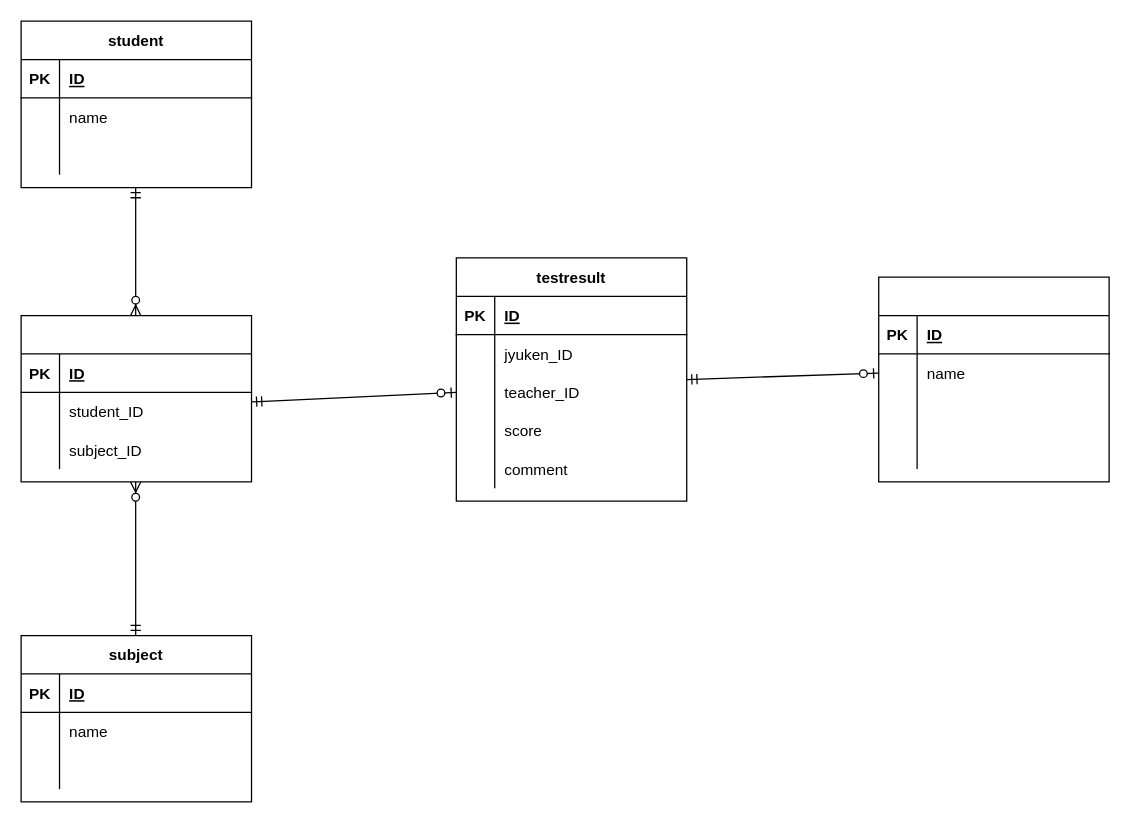
This 1130x823 diagram has some shape labels left out. The shapes that lost their labels are listed below. From the top down, each one's box as (x1, y1, x2, y2) in pixels, then its label:
(20, 314, 252, 482): examination
(877, 276, 1109, 482): teacher
